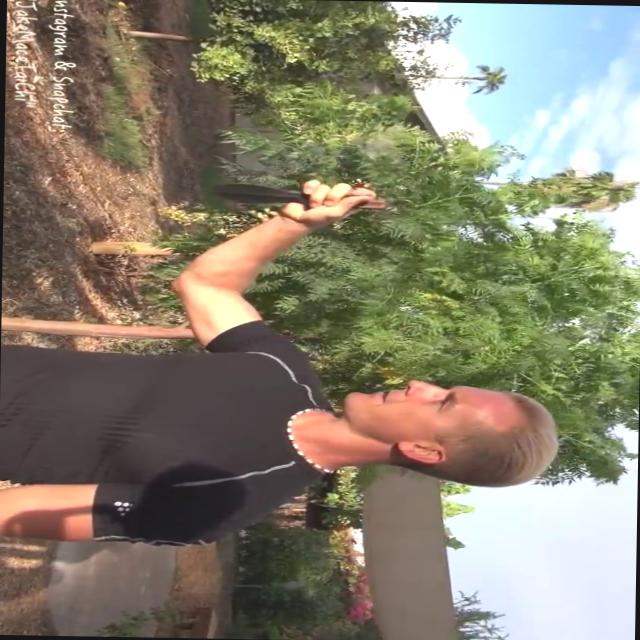knife: (206, 173, 412, 217)
